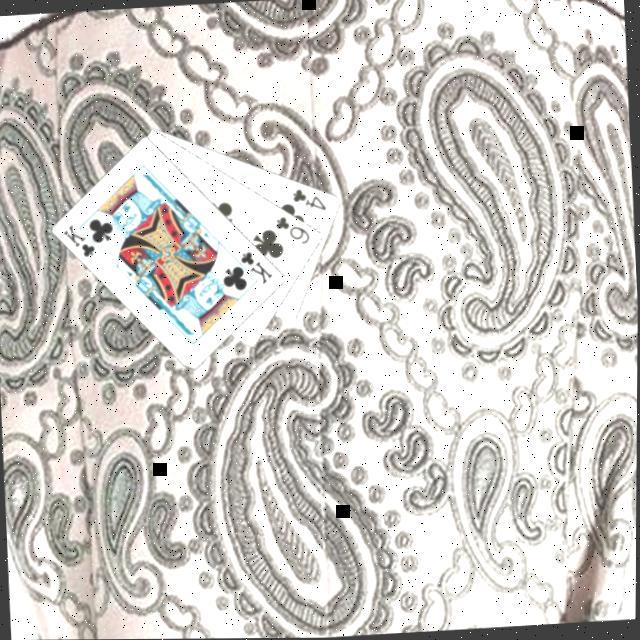4C: (292, 186, 332, 217)
6C: (274, 213, 316, 250)
KC: (232, 249, 280, 291), (61, 222, 109, 264)
